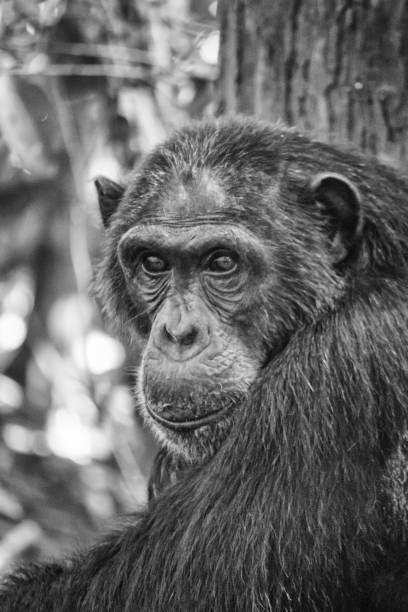chimpanzee: (74, 103, 381, 480)
